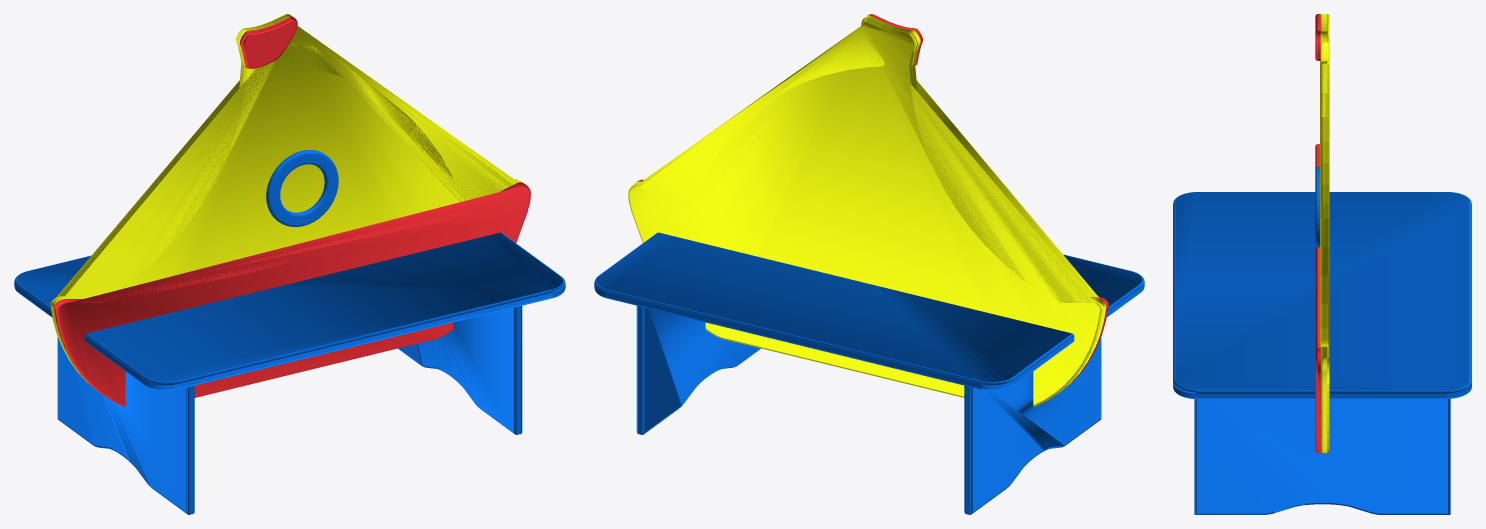
3 views of the same model, side by side, from view 1: azimuth 30°, elevation 25°; view 2: azimuth 150°, elevation 25°; view 3: azimuth 270°, elevation 25° (orthographic).
Visible parts, largest first — view 1: D_53; view 2: D_53; view 3: D_53.
Boxes of the visible parts, x1,y1,x2,y2 form: D_53: (14,14,565,514); D_53: (594,14,1144,514); D_53: (1173,14,1471,514).
Bounding box in the file's own units: 114 × 93.97 × 63.
